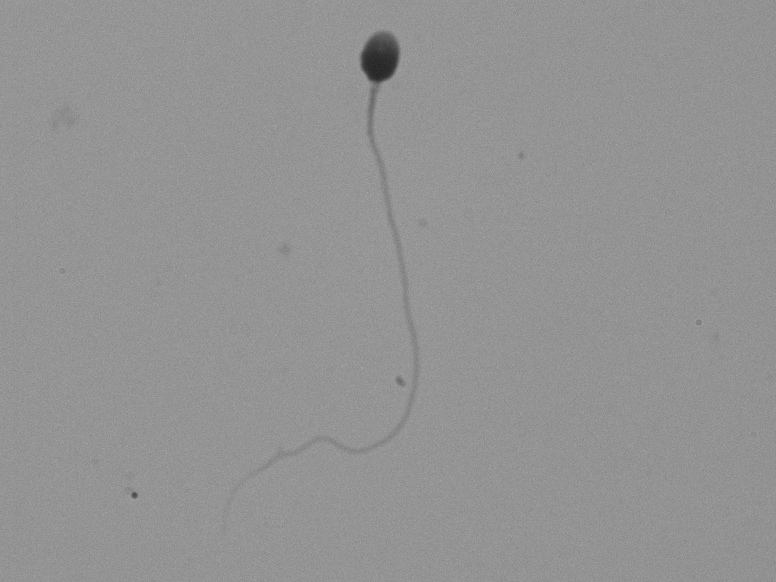Normal: (206, 19, 484, 495)
